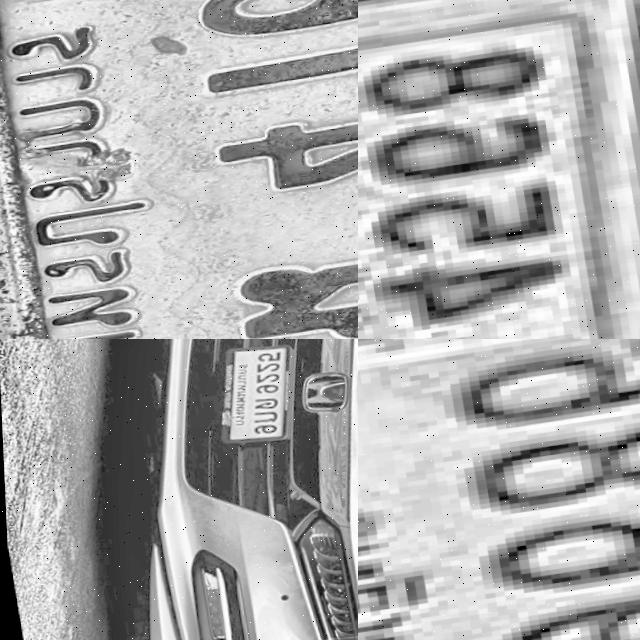license-plate: (0, 0, 358, 339), (358, 0, 640, 339), (358, 339, 640, 640), (196, 339, 311, 466)
